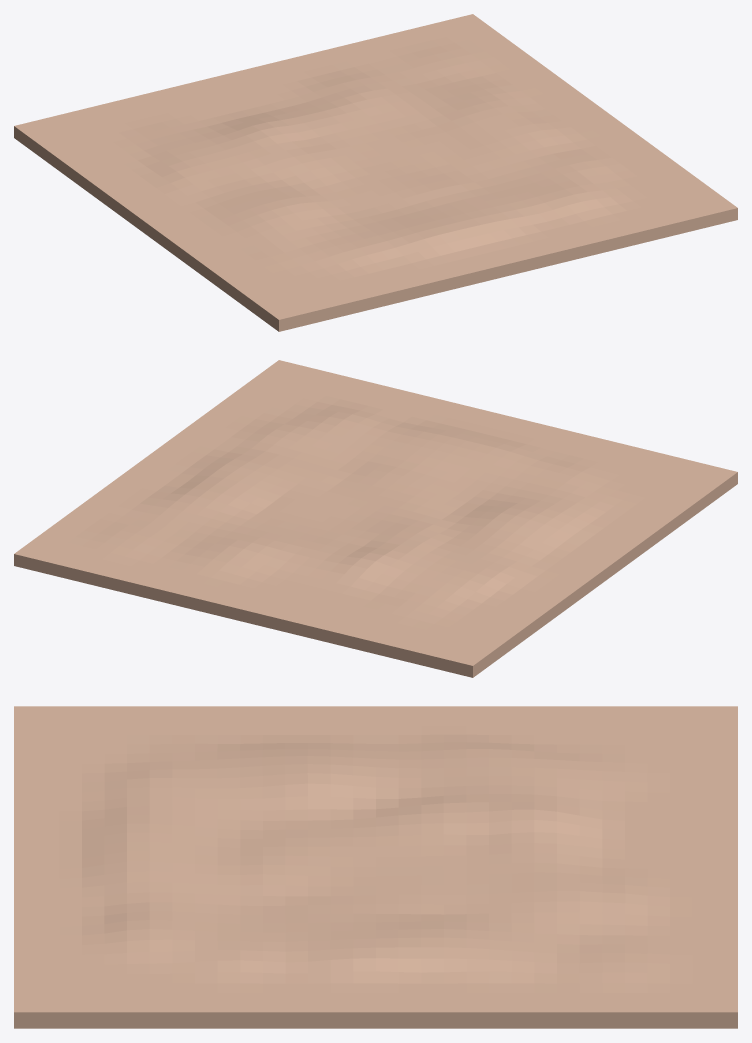
The model's file is structure_floorsquare.fbx.
3 renders of one model, top to bottom at view 1: azimuth 30°, elevation 25°; view 2: azimuth 150°, elevation 25°; view 3: azimuth 270°, elevation 25°, orthographic. The views are drawn at different scales.
Visible parts, largest first — view 1: floorsquare_LOD0; view 2: floorsquare_LOD0; view 3: floorsquare_LOD0.
Part boxes in pixels (x1=…): floorsquare_LOD0: x1=14, y1=14, x2=737, y2=331; floorsquare_LOD0: x1=14, y1=360, x2=737, y2=677; floorsquare_LOD0: x1=14, y1=706, x2=737, y2=1028.
Size of what is drawn, in the model's own units: 400 by 22.85 by 400.
